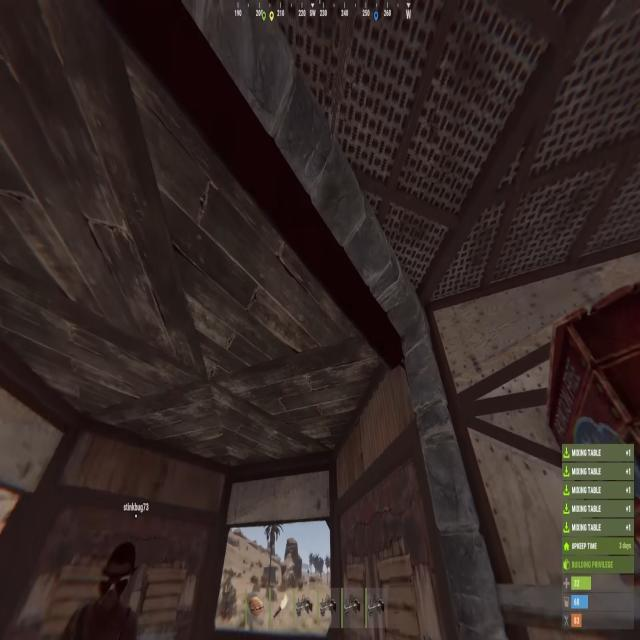Player: (59, 532, 149, 640)
